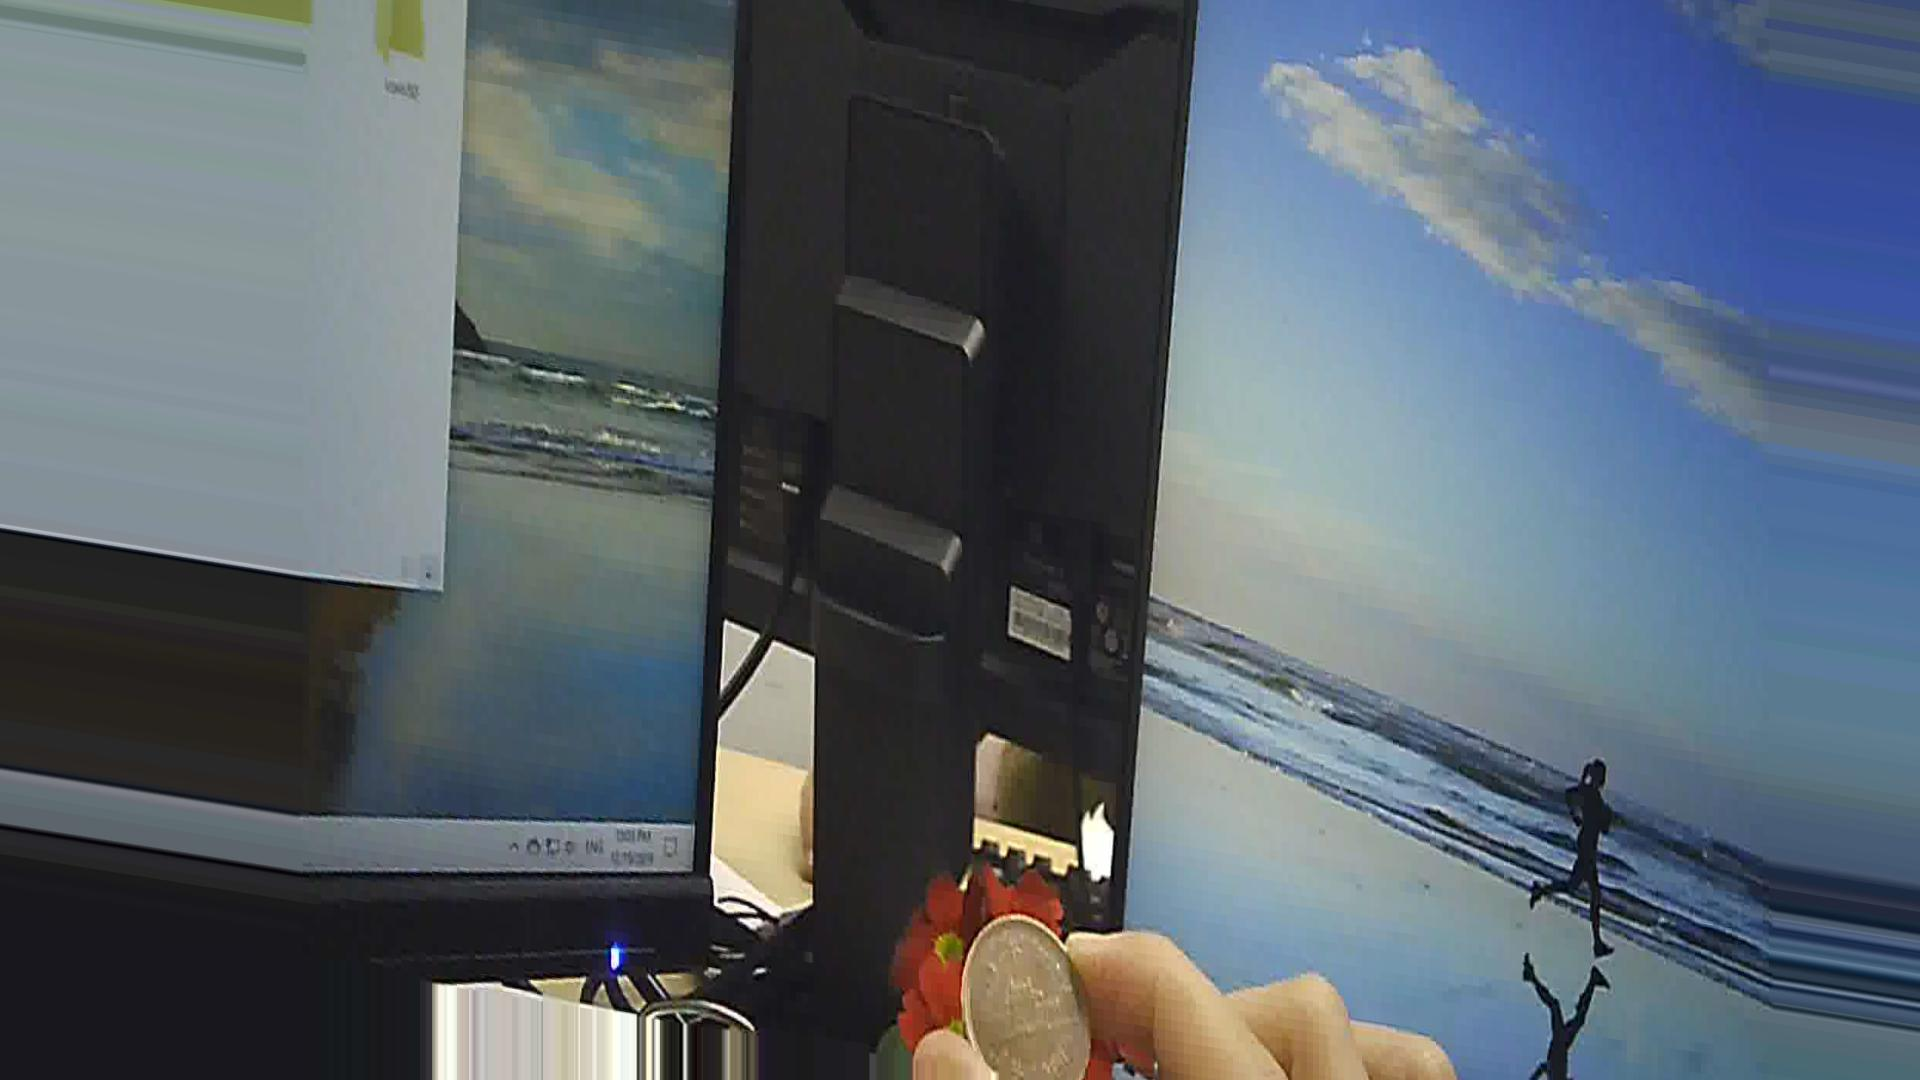10 Yen: (945, 907, 1106, 1079)
